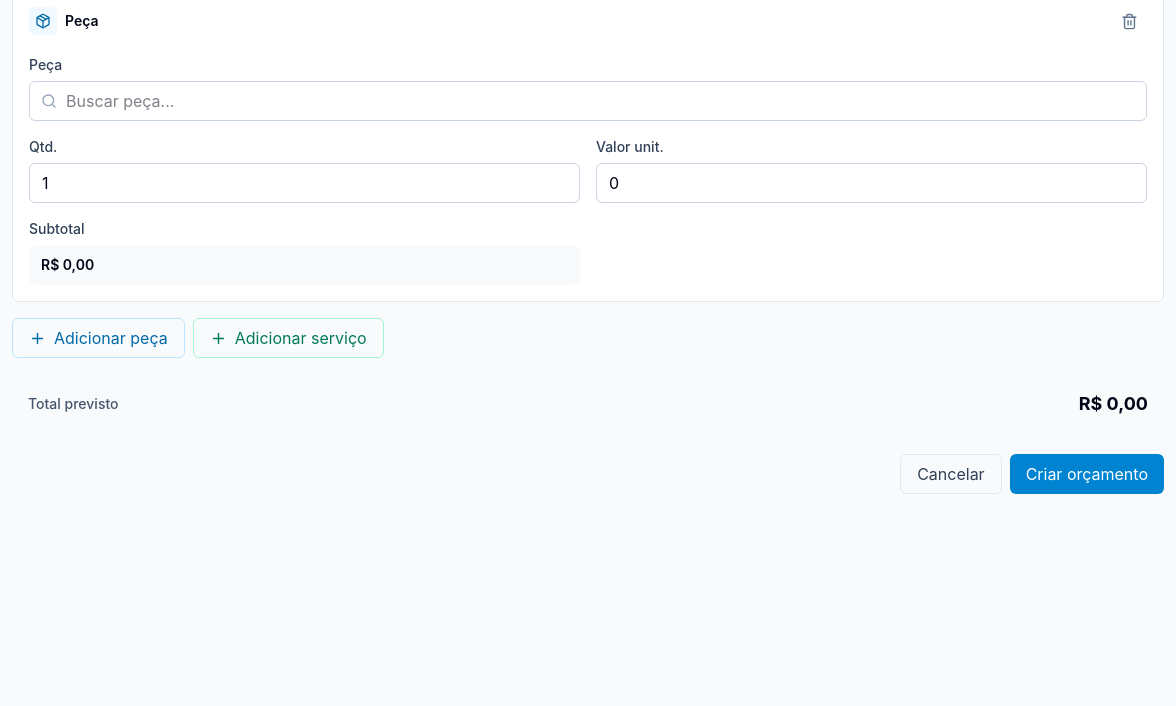
Test: BudgetForm mixed budget experience › shows understandable validation errors for PART and SERVICE
Click the button "Adicionar serviço" at (288, 338), box [193,318,384,358]
(page scrolled)
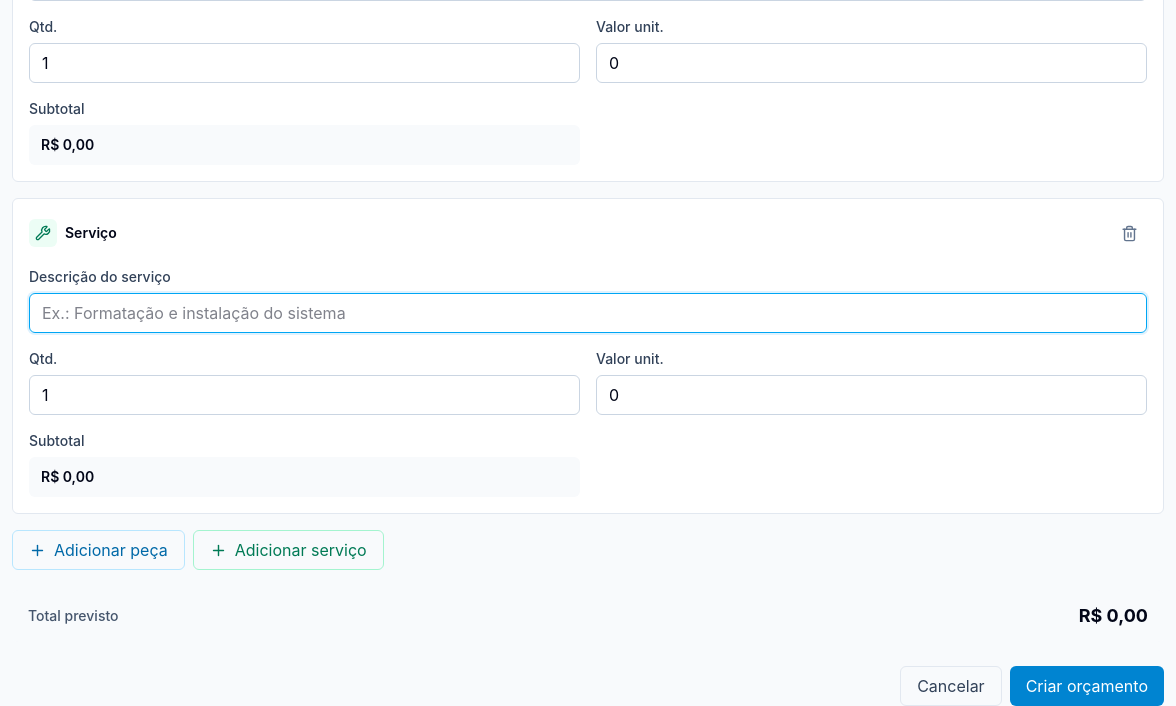
Click the button "Criar orçamento" at (1087, 686), box [1010,666,1164,705]
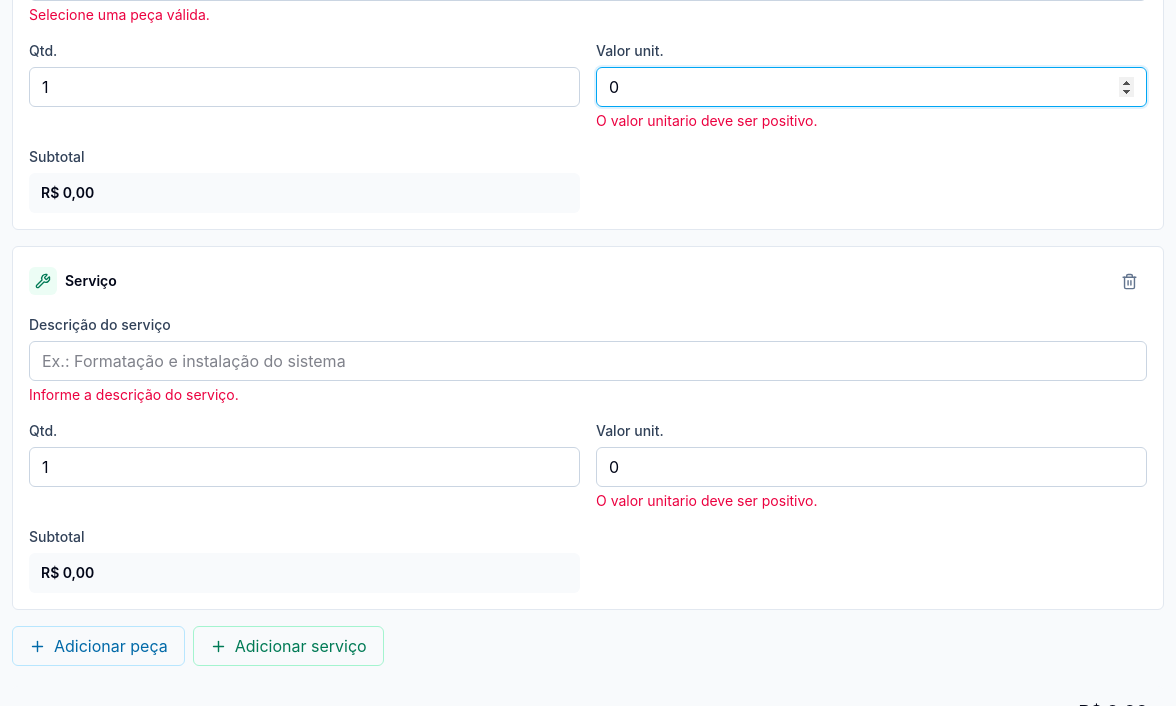
Now the text "Selecione uma peça válida." is shown, box [29,6,210,23]
Now the text "Informe a descrição do serviço." is shown, box [29,386,239,403]
Now the text "O valor unitario deve ser positivo." is shown 2 times, box [596,112,818,129]; [596,492,818,509]
